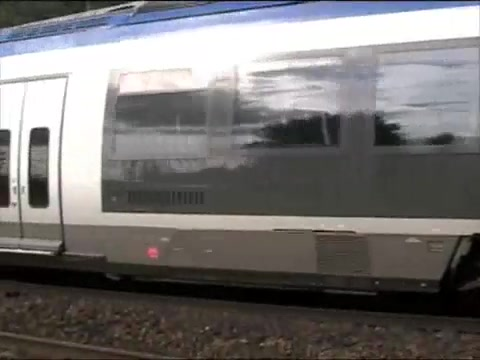train: (1, 1, 480, 309)
